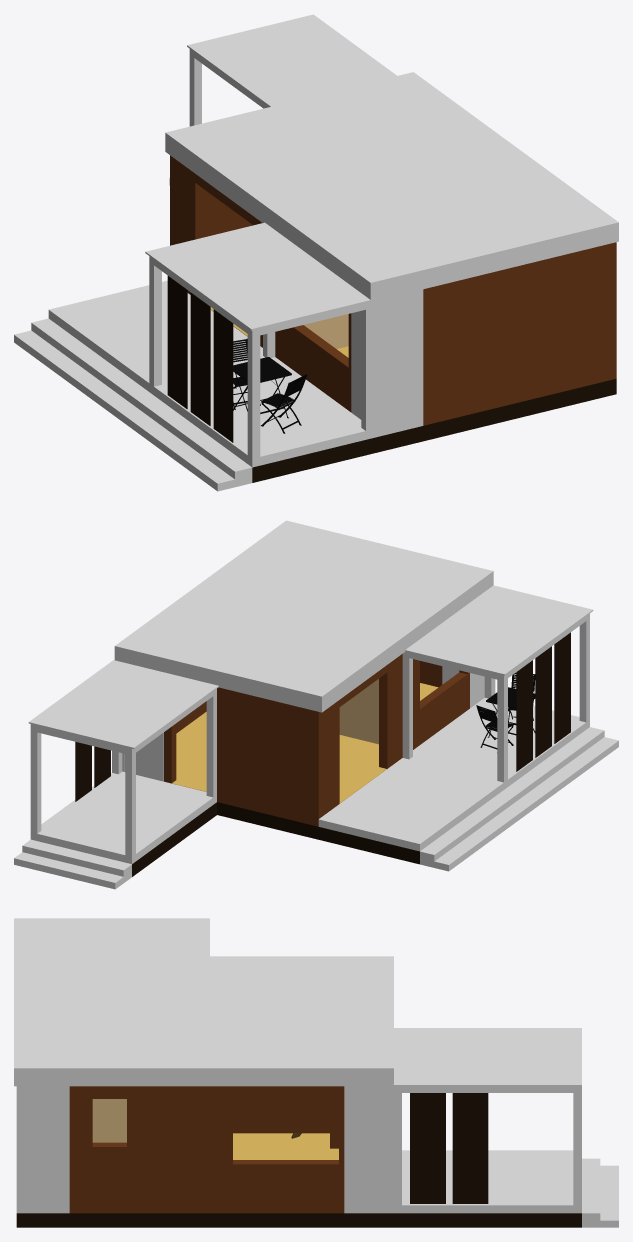
File: domek_11_27_09_pr_d.glb
The picture shows the model from 3 angles, top to bottom: view 1: azimuth 30°, elevation 25°; view 2: azimuth 150°, elevation 25°; view 3: azimuth 270°, elevation 25°; orthographic projection. The views are drawn at different scales.
Parts seen in each view (by area): view 1: dach2, pn maly drewniany element obok stolarki, pn taras podloga, dach najwyzej, pd zadaszenie support, zach_beton, schodek 2.001, schodek 1.001, podpiwniczenie, element azurowy.002, element azurowy.003, element azurowy.004 (+10 smaller); view 2: dach2, pn maly drewniany element obok stolarki, pn taras podloga, pd zadaszenie support, dach najwyzej, taras podloga, podloga, schodek 2.001, schodek 1.001, schodek 1.002, polnoc, element azurowy.002 (+16 smaller); view 3: dach2, pn maly drewniany element obok stolarki, pd zadaszenie support, dach najwyzej, taras podloga, pd-zach beton.001, pd-zach beton, podpiwniczenie, element azurowy.001, element azurowy, pd taras, podloga (+7 smaller).
Part boxes in pixels (x1,y1,x2,y2): dach2: [165, 72, 618, 301]; pn maly drewniany element obok stolarki: [170, 155, 616, 425]; pn taras podloga: [48, 280, 373, 467]; dach najwyzej: [145, 222, 370, 330]; pd zadaszenie support: [187, 14, 396, 106]; zach_beton: [373, 289, 423, 437]; schodek 2.001: [31, 318, 252, 487]; schodek 1.001: [14, 330, 234, 491]; podpiwniczenie: [373, 378, 616, 453]; element azurowy.002: [190, 292, 210, 425]; element azurowy.003: [167, 276, 187, 409]; element azurowy.004: [213, 309, 233, 442]; dach2: [114, 520, 493, 712]; pn maly drewniany element obok stolarki: [164, 654, 467, 826]; pn taras podloga: [318, 698, 589, 851]; pd zadaszenie support: [28, 660, 218, 748]; dach najwyzej: [405, 585, 593, 675]; taras podloga: [37, 771, 216, 862]; podloga: [172, 683, 438, 803]; schodek 2.001: [420, 727, 604, 867]; schodek 1.001: [434, 737, 618, 871]; schodek 1.002: [14, 839, 131, 889]; polnoc: [339, 679, 378, 744]; element azurowy.002: [535, 646, 551, 757]; dach2: [14, 956, 393, 1086]; pn maly drewniany element obok stolarki: [69, 1086, 344, 1213]; pd zadaszenie support: [393, 1028, 581, 1086]; dach najwyzej: [14, 918, 209, 956]; taras podloga: [393, 1150, 581, 1213]; pd-zach beton.001: [16, 1086, 69, 1213]; pd-zach beton: [344, 1086, 393, 1213]; podpiwniczenie: [16, 1213, 393, 1227]; element azurowy.001: [452, 1093, 488, 1203]; element azurowy: [410, 1093, 445, 1203]; pd taras: [393, 1213, 581, 1227]; podloga: [233, 1133, 338, 1159].
Size of the model in its own units: 8.1 by 3.33 by 11.43.
